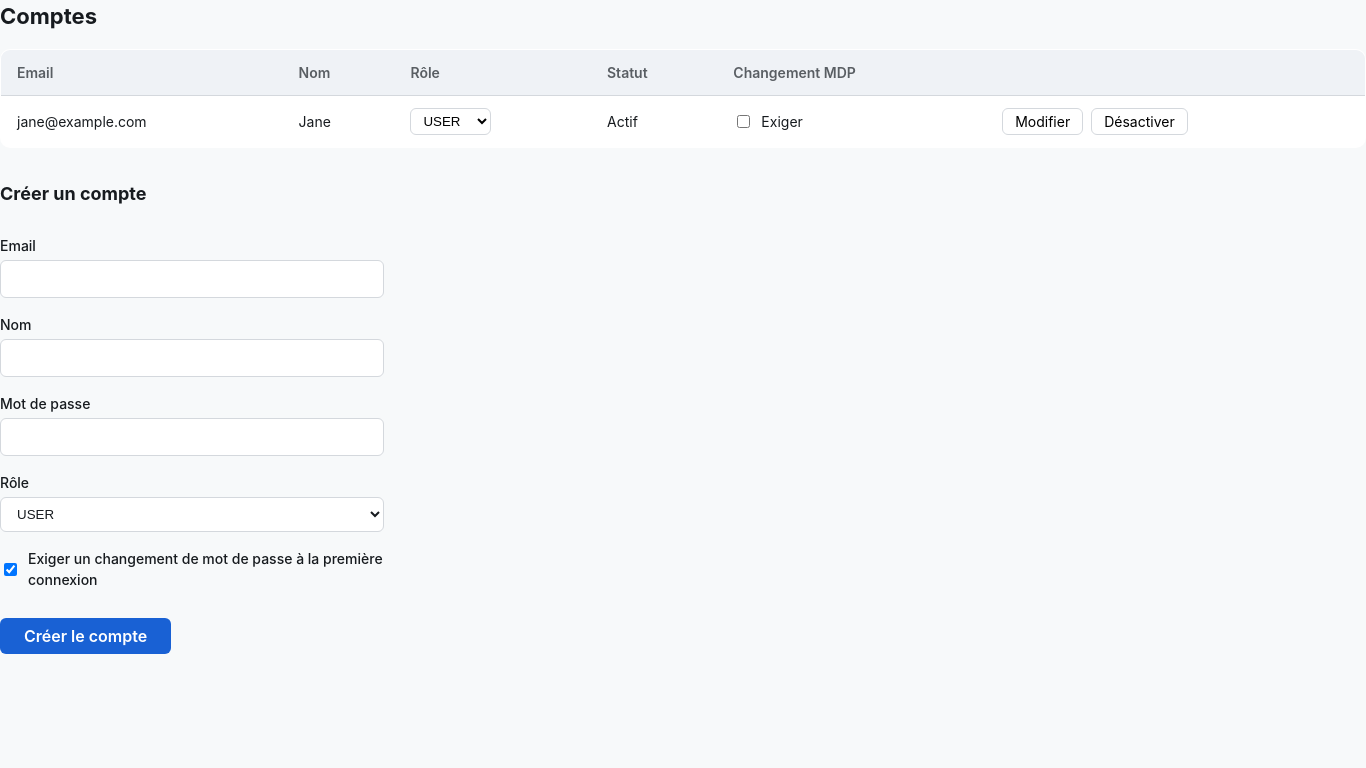
it: AdminUsers — edit panel › shows the server error when the email is already used
Expected: the text "jane@example.com" is shown, [0,96,283,148]
Click the button with aria-label "Modifier jane@example.com": [1043, 122] box [1002,108,1083,135]
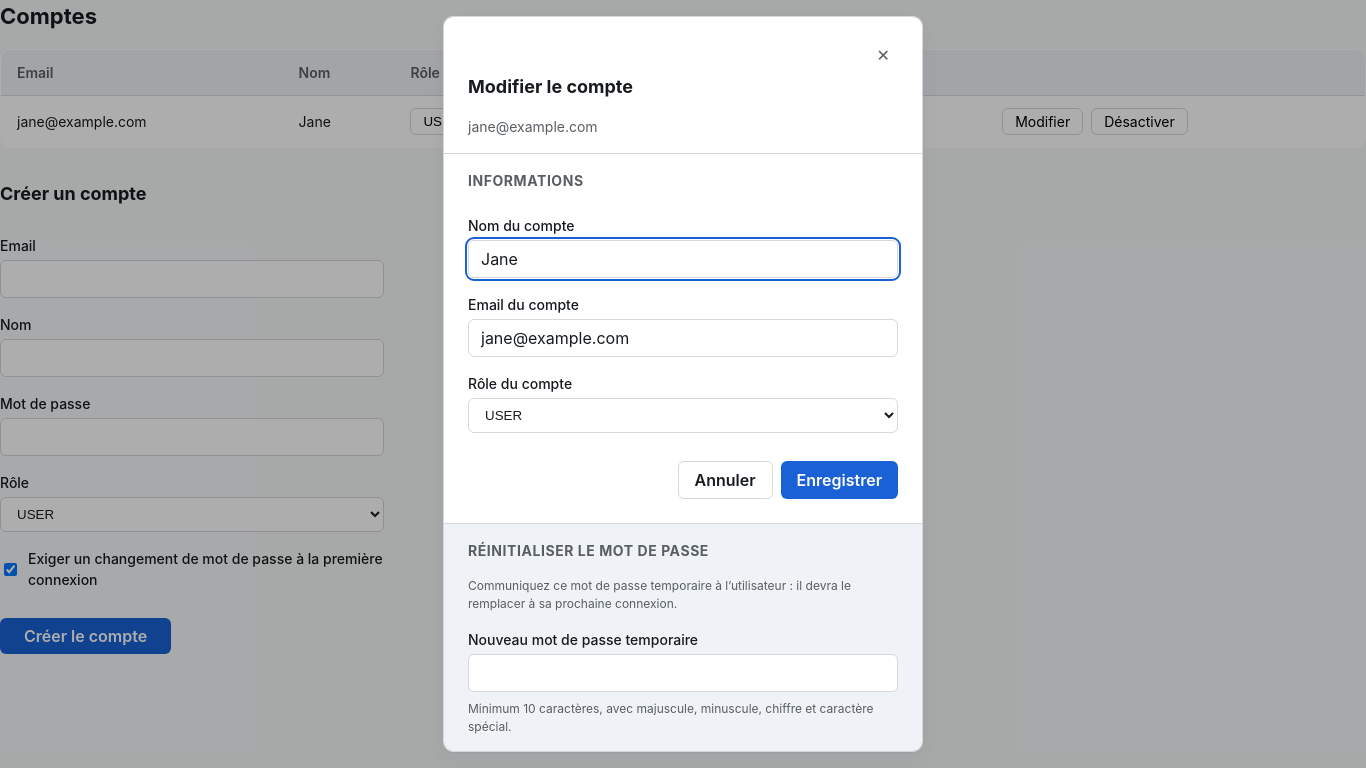
Click the button "Enregistrer": [839, 480] box [781,461,898,499]
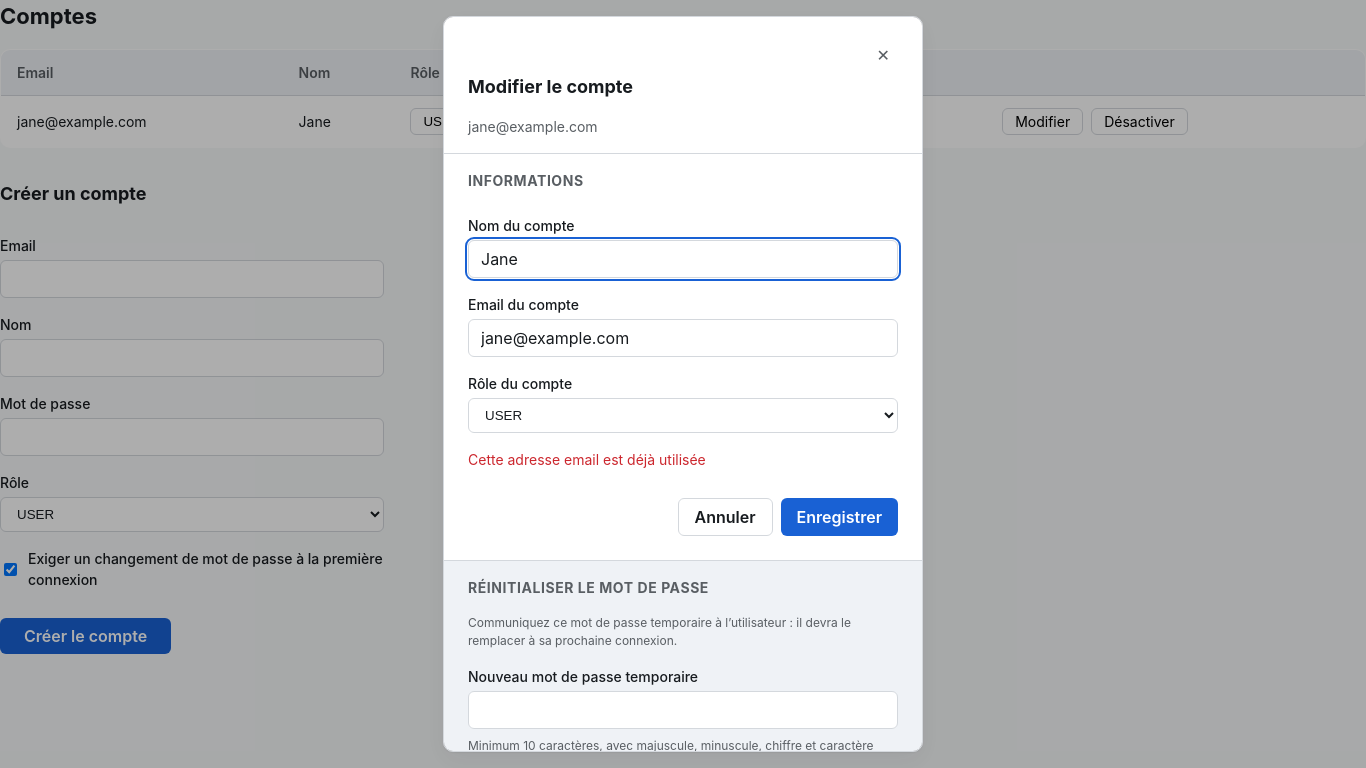
Expected: the dialog is shown, [443,16,923,752]
Expected: the message reads "Cette adresse email est déjà utilisée", [468,451,706,468]
